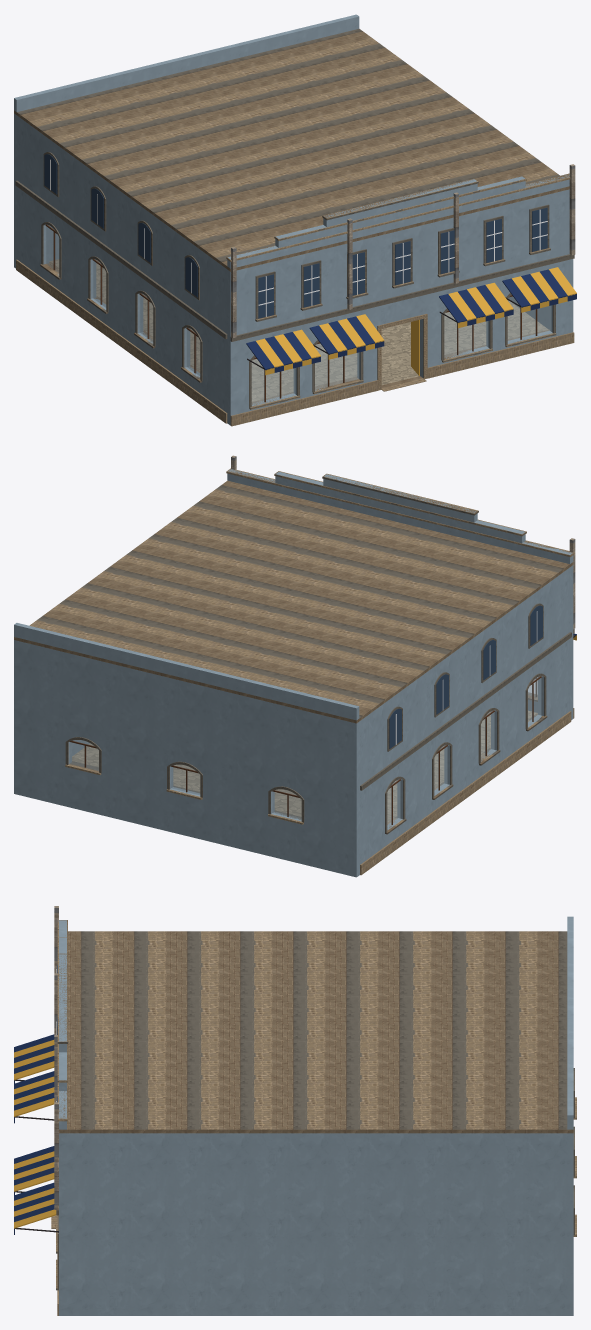
Rendered from shop_jeweler.gltf.
3 renders of one model, top to bottom at view 1: azimuth 30°, elevation 25°; view 2: azimuth 150°, elevation 25°; view 3: azimuth 270°, elevation 25°, orthographic. The views are drawn at different scales.
Visible parts, largest first — view 1: shop_jeweler; view 2: shop_jeweler; view 3: shop_jeweler.
Part boxes in pixels (box(x1,y1,x2,y2)): shop_jeweler: box(14, 14, 576, 426); shop_jeweler: box(14, 455, 576, 877); shop_jeweler: box(14, 906, 576, 1315).
Size of what is drawn, in the model's own units: 17.86 by 9.1 by 21.22.
8 materials, 4 textured.
